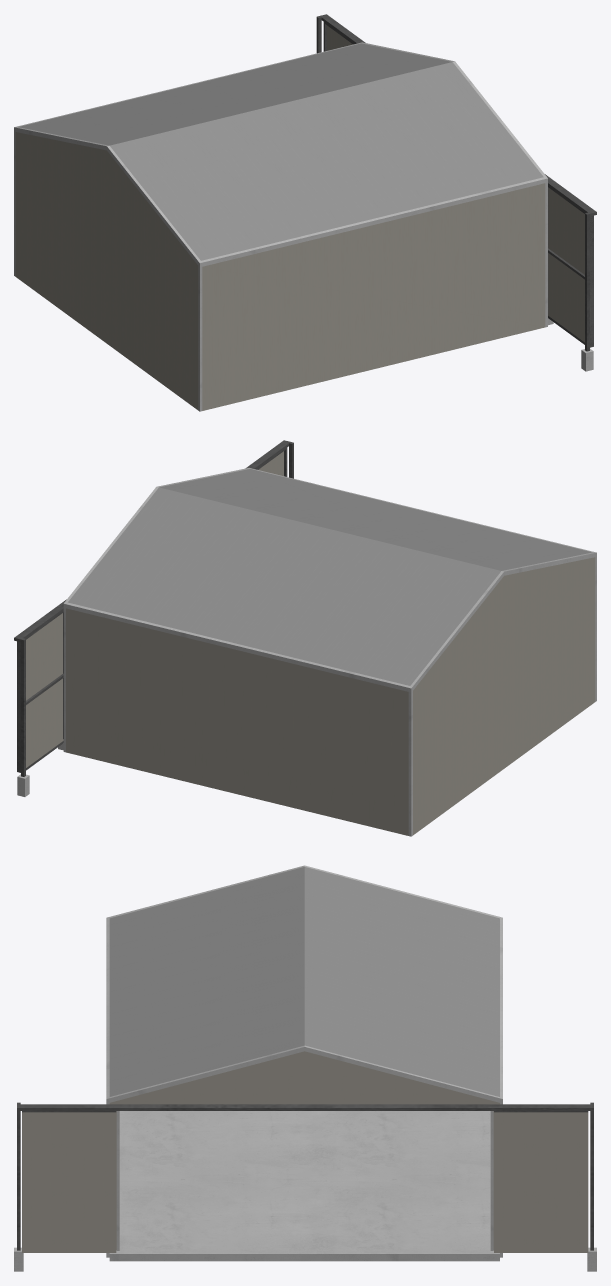
The model's file is gen_open_hangar08_slide_door-12x13x5-cbj_LOD02.gltf.
3 renders of one model, top to bottom at view 1: azimuth 30°, elevation 25°; view 2: azimuth 150°, elevation 25°; view 3: azimuth 270°, elevation 25°, orthographic. The views are drawn at different scales.
Parts seen in each view (by area): view 1: Cube.003; view 2: Cube.003; view 3: Cube.003.
Boxes of the visible parts, x1=… form: Cube.003: x1=14, y1=14, x2=596, y2=411; Cube.003: x1=14, y1=440, x2=596, y2=836; Cube.003: x1=14, y1=865, x2=596, y2=1271.
Size of the model in its own units: 13.47 by 7.58 by 17.93.
